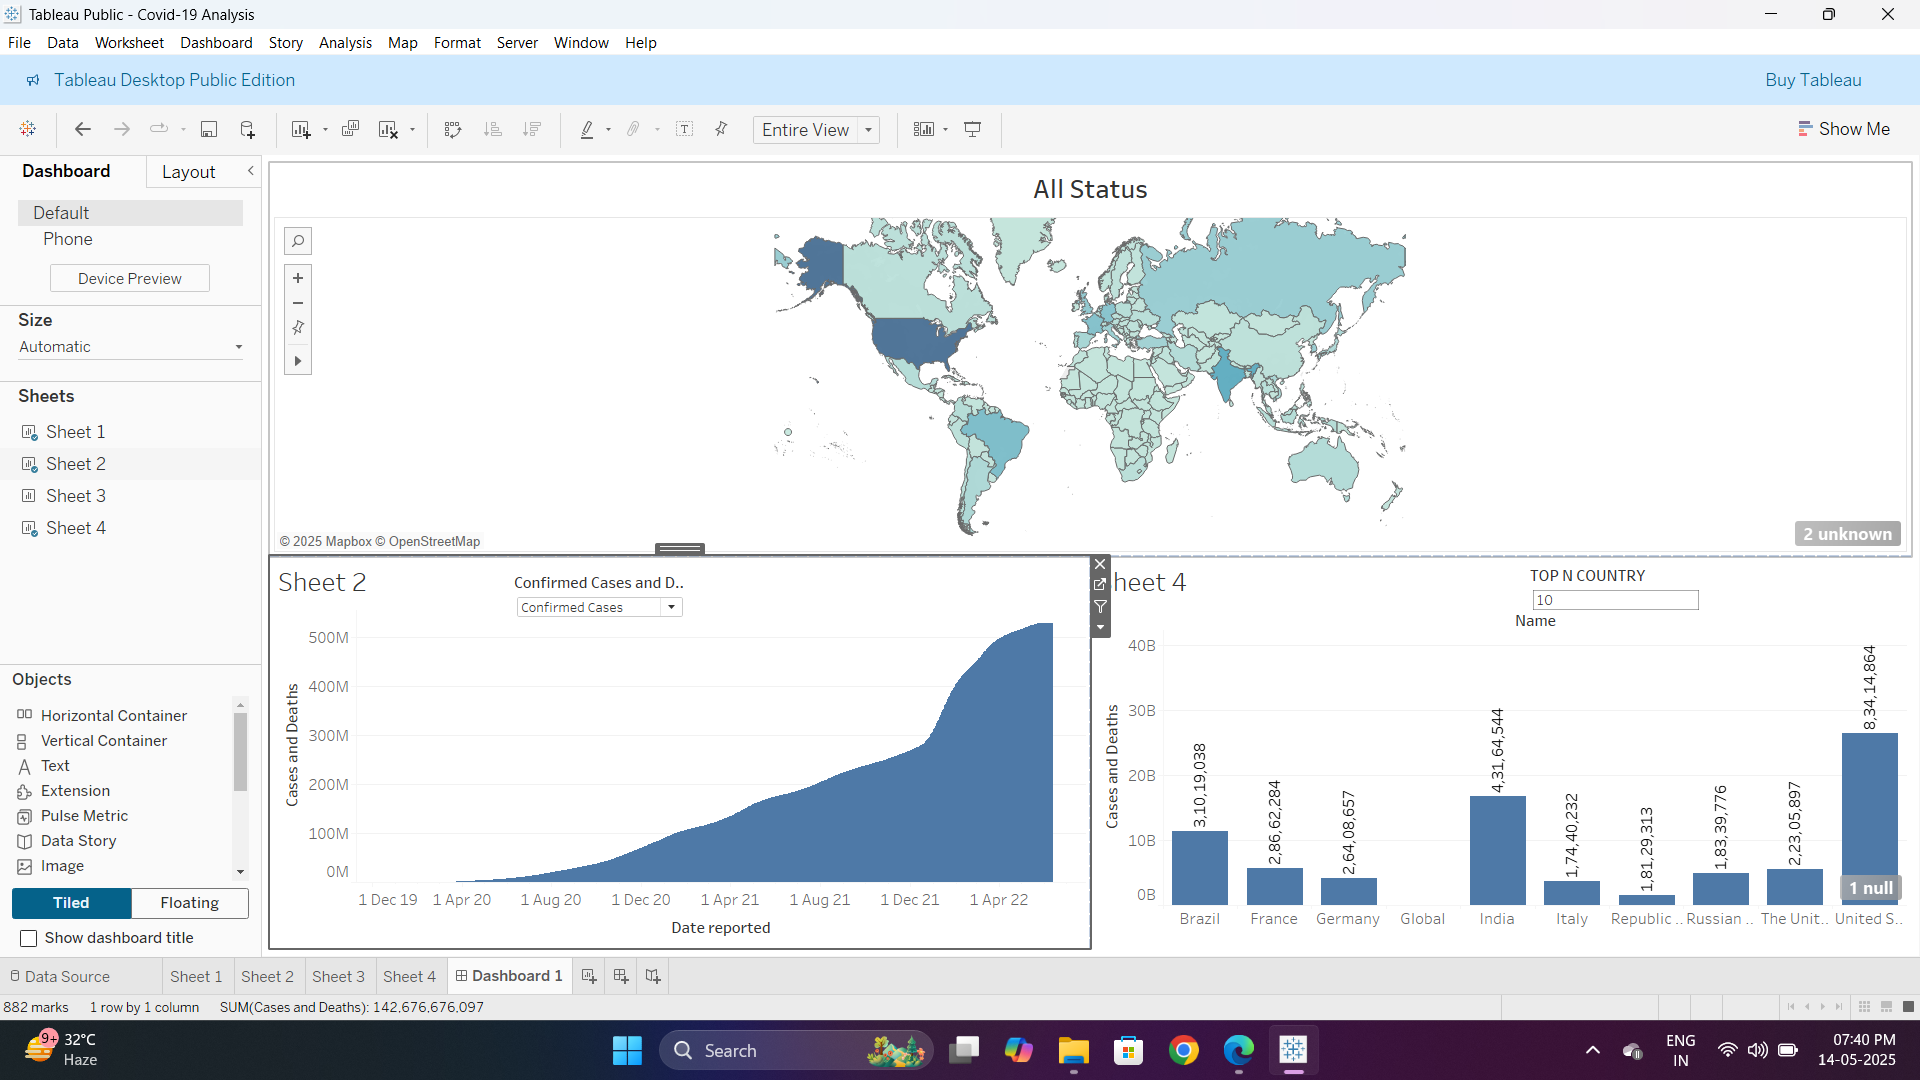

This screenshot's page, from the dashboard's own definition file:
{"tool":"tableau","page":{"name":"Dashboard 1","canvas":[1000,1000],"units":"permille","ordinal":0},"visuals":[{"type":"worksheet","title":"Sheet 1","mark":"Automatic","box":[5.2,10,989.6,490]},{"type":"worksheet","title":"Sheet 2","mark":"Bar","rows":["Calculation_1358398286723805186"],"cols":["Date_reported"],"box":[5.2,500,494.8,490]},{"type":"worksheet","title":"Sheet 4","mark":"Automatic","rows":["Calculation_1358398286723805186"],"cols":["Name"],"box":[500,500,494.8,490]},{"type":"parameter","param":"[Parameters].[Parameter 2]","box":[765.4,511.9,103.7,59.9]},{"type":"parameter","param":"[Parameters].[Parameter 1]","box":[152.3,520.6,103.7,59.9]}]}

Visuals, with their boxes on the dashboard's canvas, which has no fixed pixel size, in thousandths of its width and height (x1, y1, x2, y2). These are canvas units, not pixel positions in the 1920x1080 screenshot, which may show the page scaled, cropped or inside an application window:
"Sheet 1" worksheet: x1=5, y1=10, x2=995, y2=500
"Sheet 2" worksheet (Bar marks): x1=5, y1=500, x2=500, y2=990
"Sheet 4" worksheet: x1=500, y1=500, x2=995, y2=990
parameter: x1=765, y1=512, x2=869, y2=572
parameter: x1=152, y1=521, x2=256, y2=580
